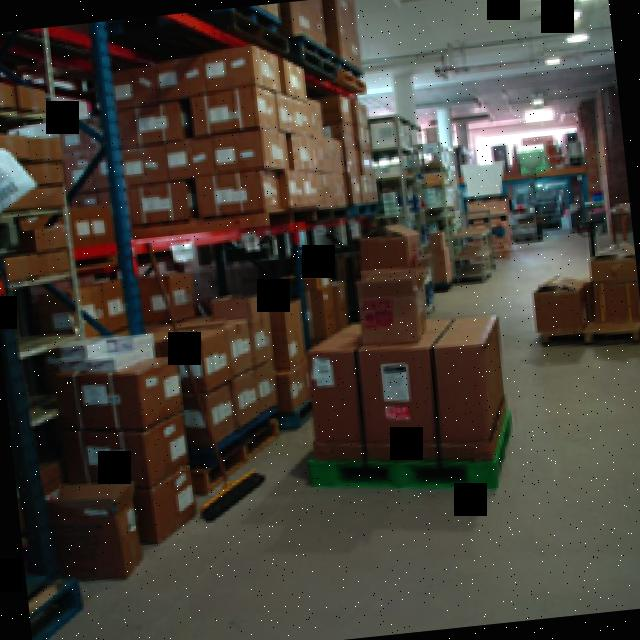box: (297, 315, 514, 473), (36, 473, 145, 591), (190, 163, 286, 220), (534, 276, 596, 340)
